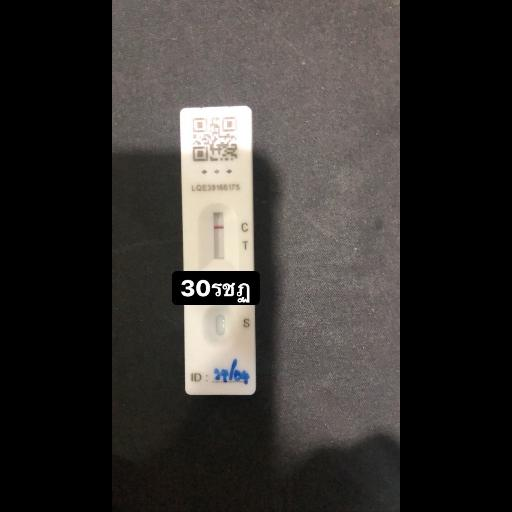Neg: (180, 106, 256, 396)
